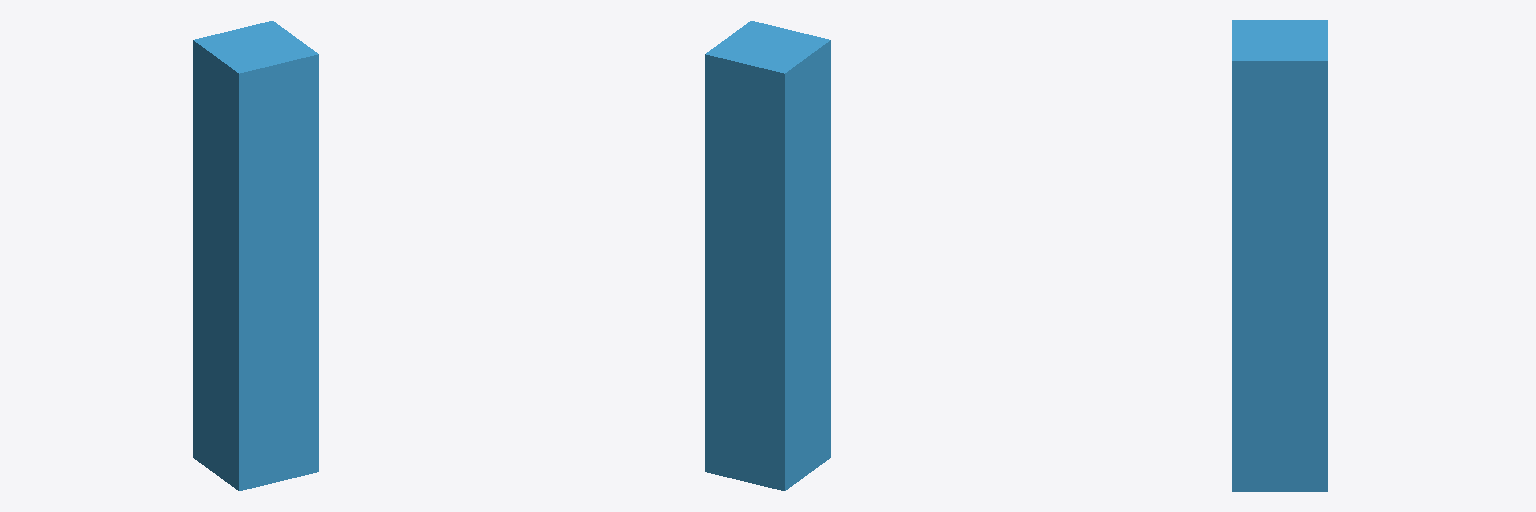
robot.urdf — static_robot:
<?xml version="1.0"?>
<robot  name="static_robot">

<!-- Used for fixing robot to Gazebo 'base_link' -->
  <link name="world"/>

  <joint name="glue_robot_to_world" type="fixed">
    <parent link="world"/>
    <child link="link1"/>
  </joint>

 <!-- Base Link -->
  <link name="link1">
    <visual>
      <origin xyz="0 0 0.5" rpy="0 0 0"/>
      <geometry>
        <box size="0.2 0.2 1"/>
      </geometry>
    </visual>
  </link>
</robot>

--- Render facts (derived) ---
Views: 3 orthographic renders of the robot side by side, from view 1: azimuth 30°, elevation 25°; view 2: azimuth 150°, elevation 25°; view 3: azimuth 270°, elevation 25°.
Robot: static_robot — 2 links, 1 joints (1 fixed); root link world; default pose: all joints at 0.
Links seen in each view (by area): view 1: link1; view 2: link1; view 3: link1.
Boxes of the visible links, x1,y1,x2,y2 form: link1: [193, 21, 318, 490]; link1: [705, 21, 830, 490]; link1: [1232, 20, 1327, 491].
Size in the robot's own frame: 0.2 by 0.2 by 1 metres.
Geometry: primitives only (box / cylinder / sphere), no mesh files.
